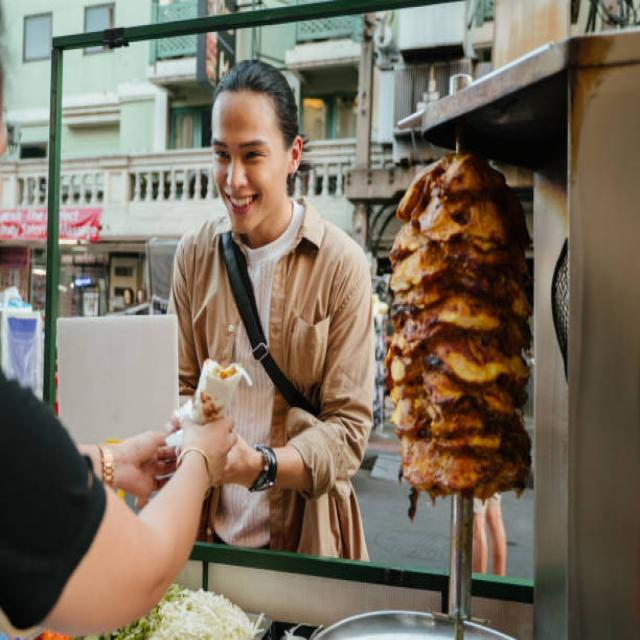Emperan: (30, 0, 640, 640)
